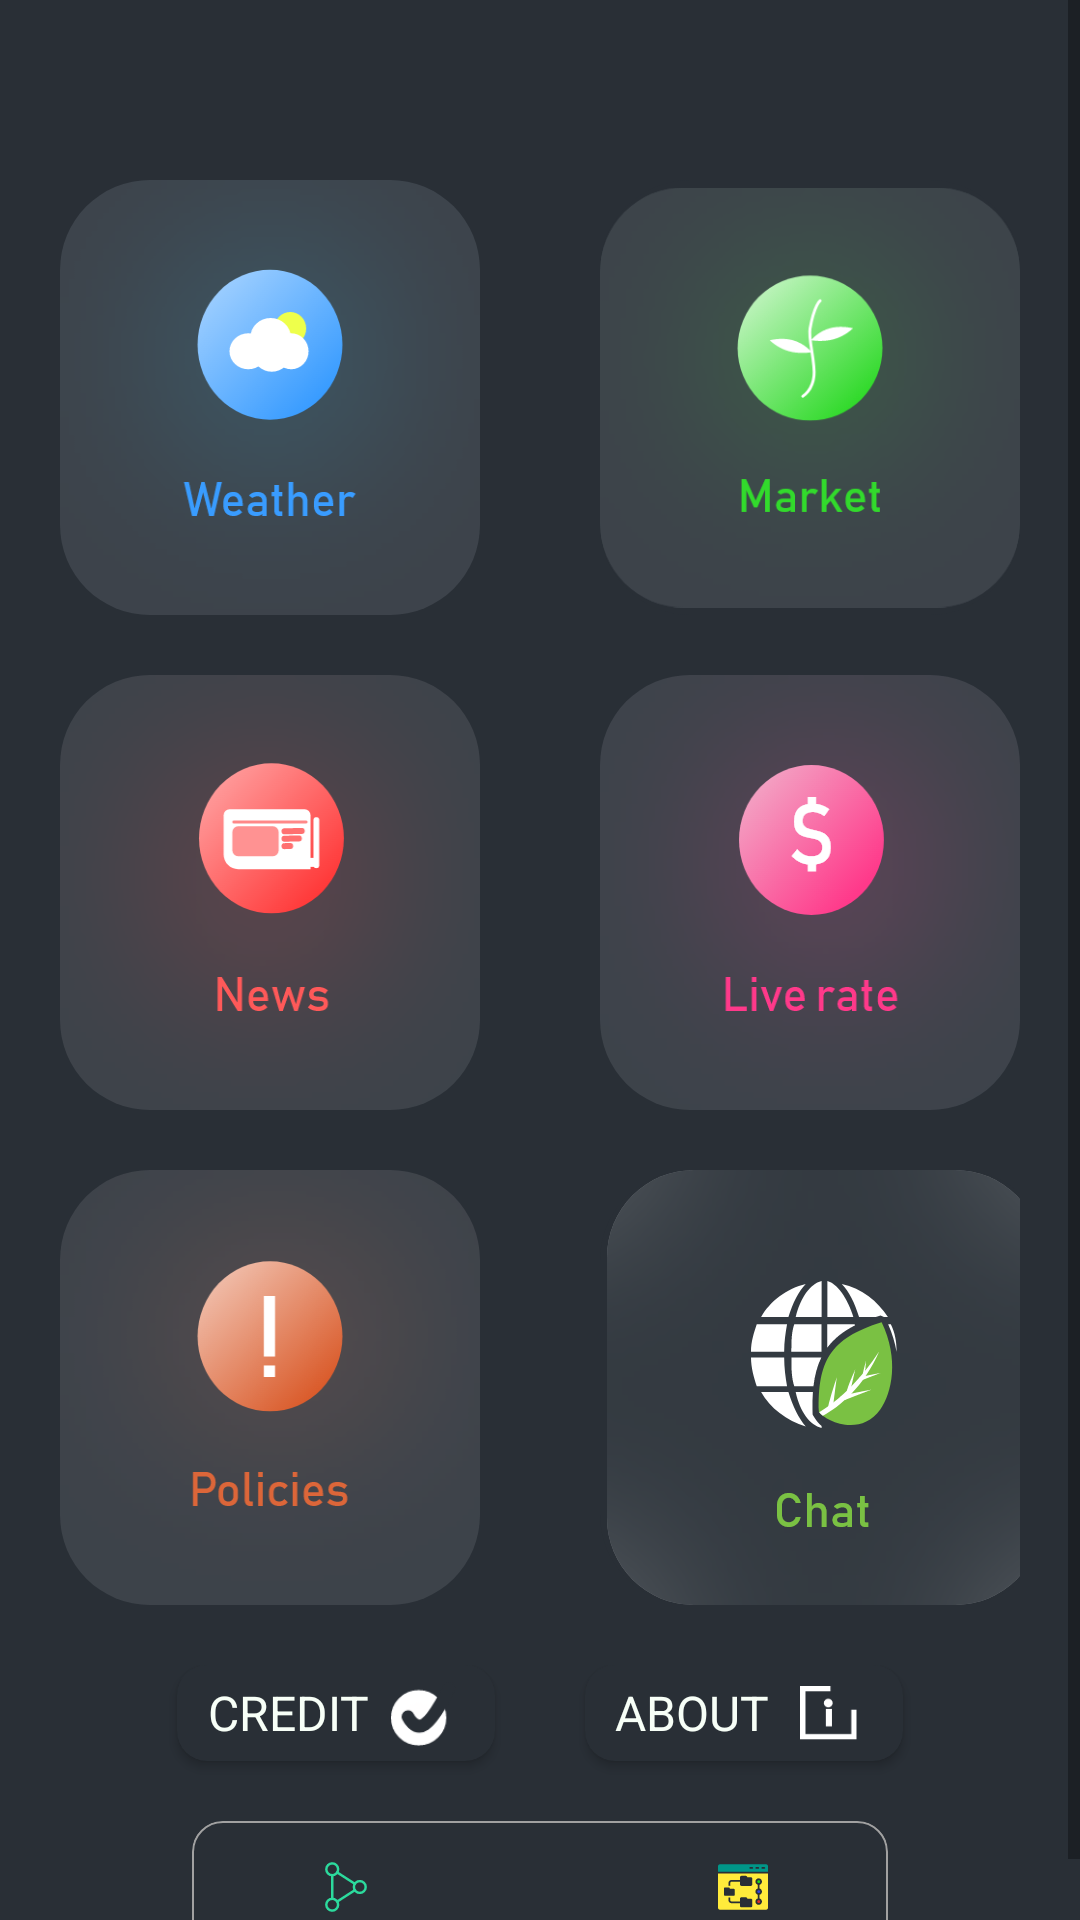

Where icons sit on this 1080px×1920px app screen, as box(x1, y1, x2, y2):
share: box(325, 1862, 367, 1912)
